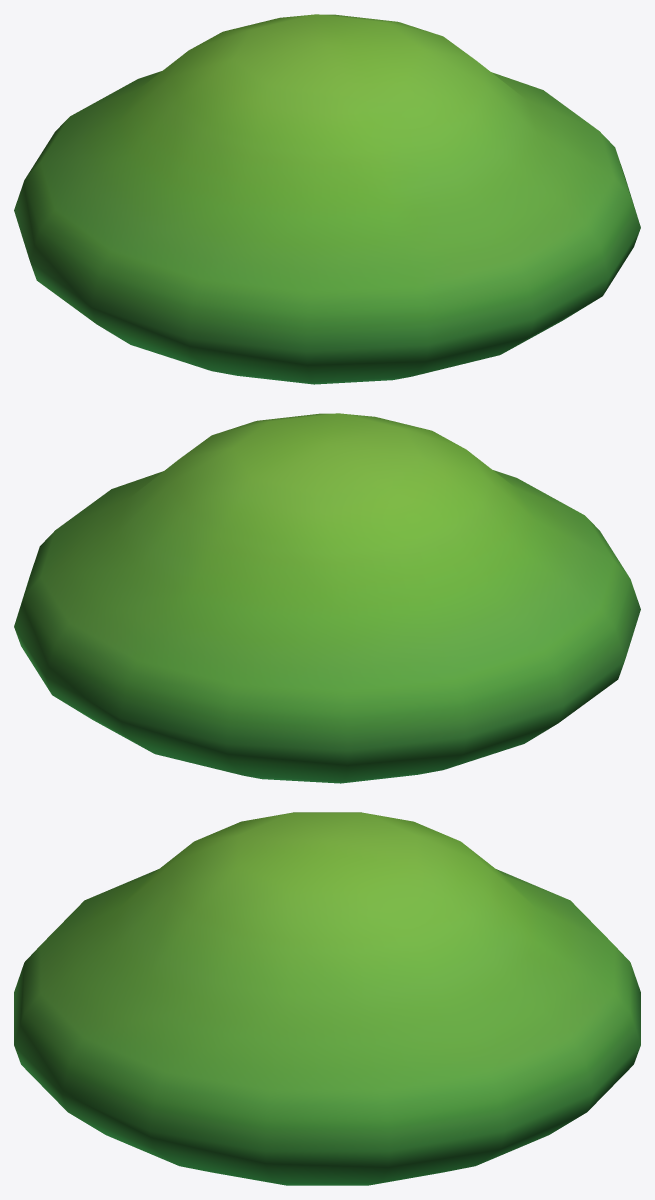
The model's file is forest_bush_3.glb.
3 renders of one model, top to bottom at view 1: azimuth 30°, elevation 25°; view 2: azimuth 150°, elevation 25°; view 3: azimuth 270°, elevation 25°, orthographic.
Parts seen in each view (by area): view 1: Bush_3_C_Color1; view 2: Bush_3_C_Color1; view 3: Bush_3_C_Color1.
Part boxes in pixels (<box>): Bush_3_C_Color1: <box>14,14,640,384</box>; Bush_3_C_Color1: <box>14,413,640,783</box>; Bush_3_C_Color1: <box>14,812,640,1185</box>.
Bounding box in the file's own units: 2.49 × 1.15 × 2.49.
1 material, 1 textured.
